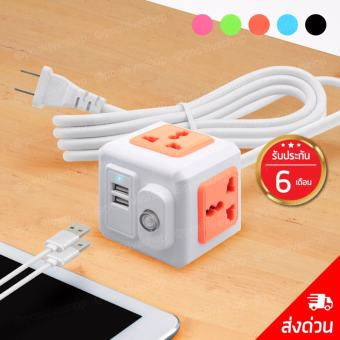Three_eye_plug: (86, 117, 251, 271)
